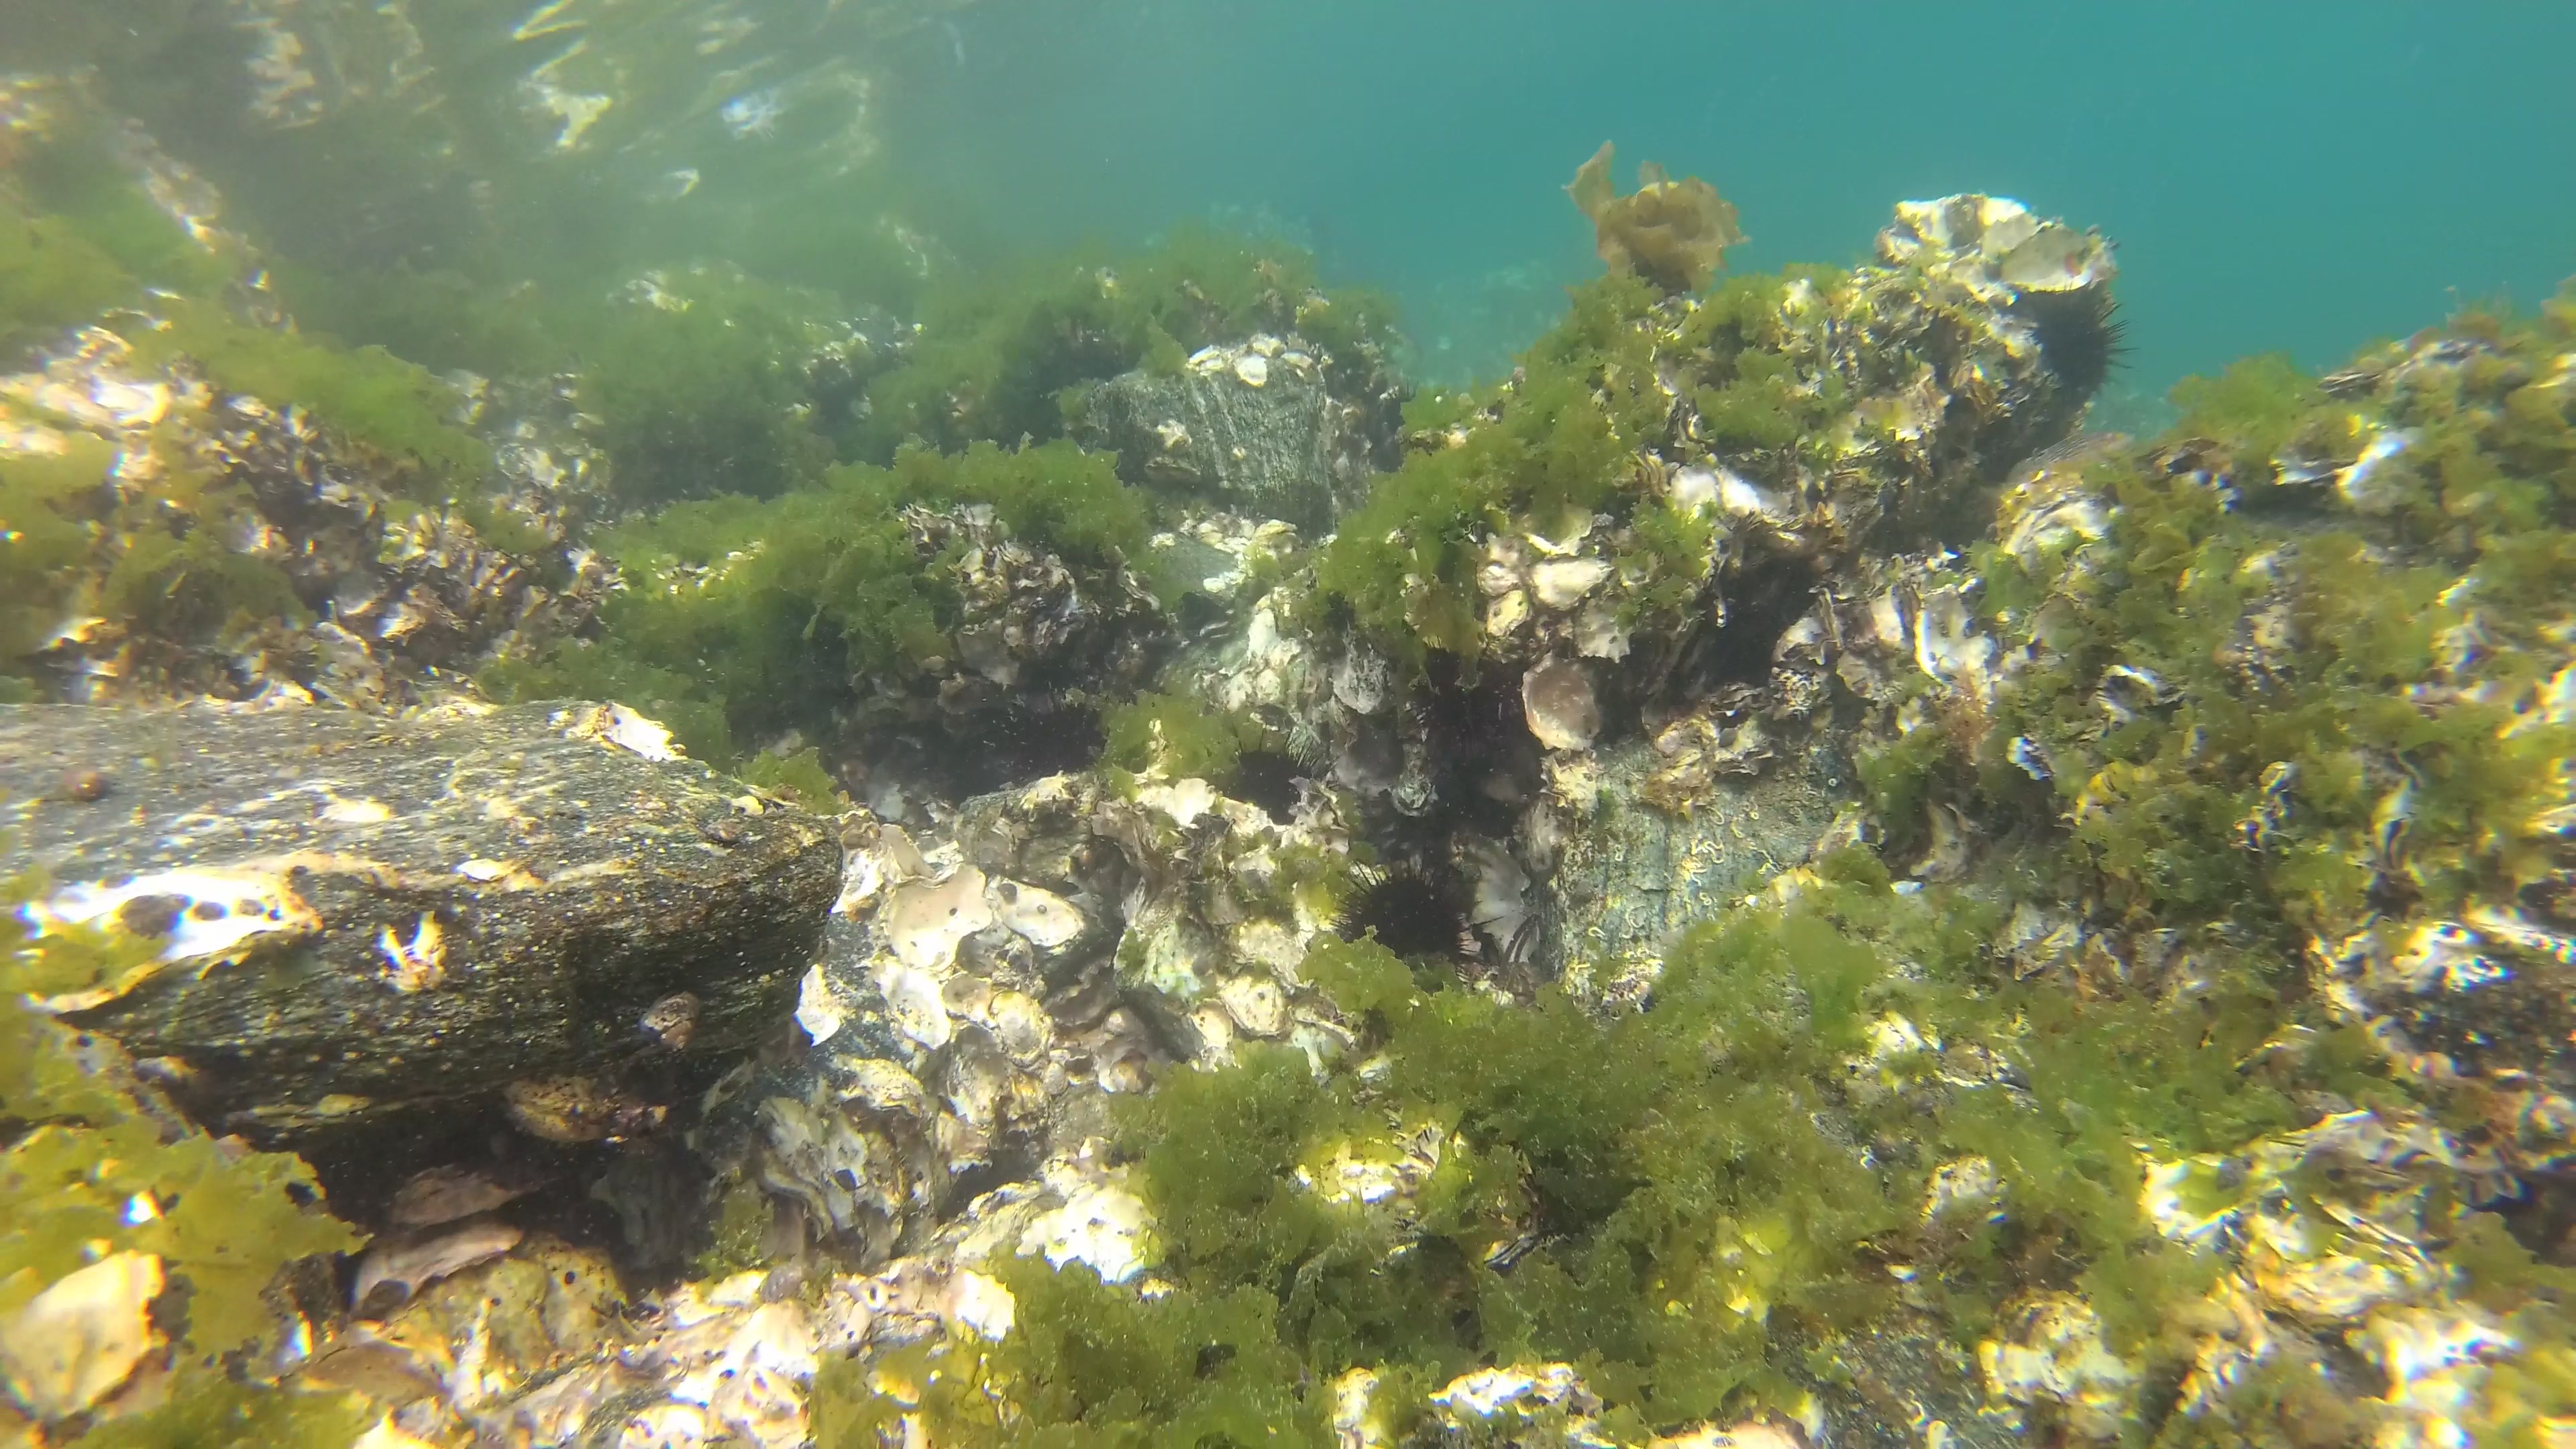echinus: (2006, 278, 2135, 435), (1338, 858, 1472, 970), (1014, 697, 1116, 782), (1223, 732, 1313, 824)
